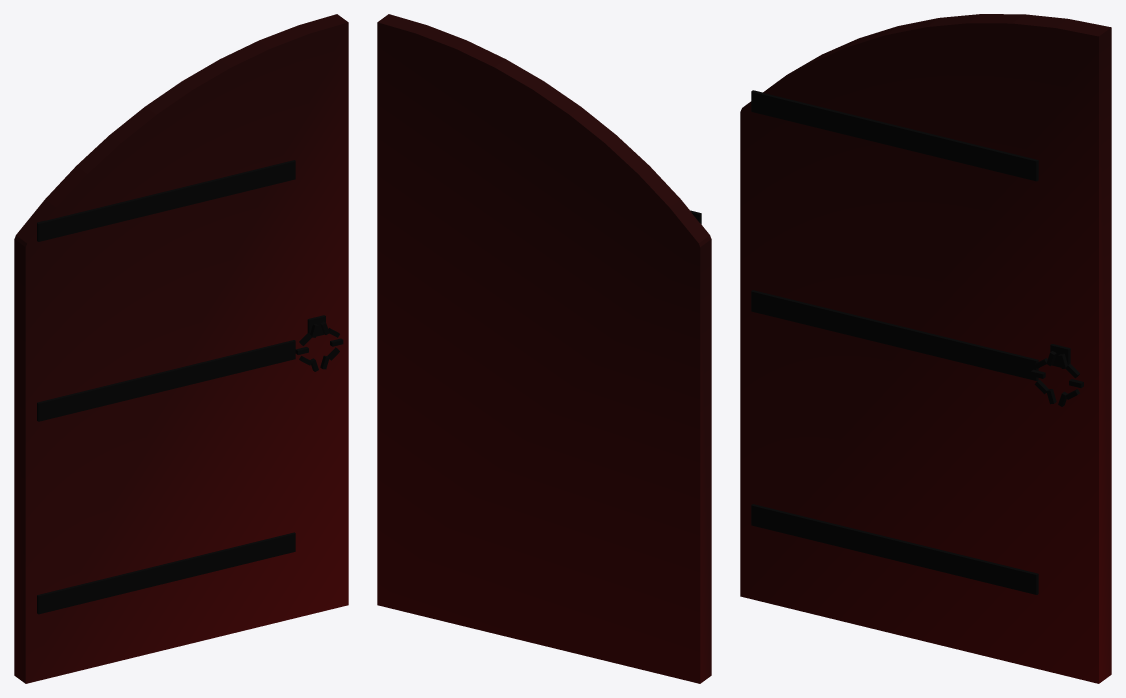
File: SilverbrookStables_Door1.fbx
The picture shows the model from 3 angles, left to right: view 1: azimuth 30°, elevation 25°; view 2: azimuth 150°, elevation 25°; view 3: azimuth 330°, elevation 25°; orthographic projection. The views are drawn at different scales.
Visible parts, largest first — view 1: SM_SBStables_Door1_Part; view 2: SM_SBStables_Door1_Part; view 3: SM_SBStables_Door1_Part.
Boxes of the visible parts, <box> form: SM_SBStables_Door1_Part: <box>14,14,348,683</box>; SM_SBStables_Door1_Part: <box>377,14,711,683</box>; SM_SBStables_Door1_Part: <box>740,14,1111,683</box>.
Size of the model in its own units: 132 by 227 by 11.8.
